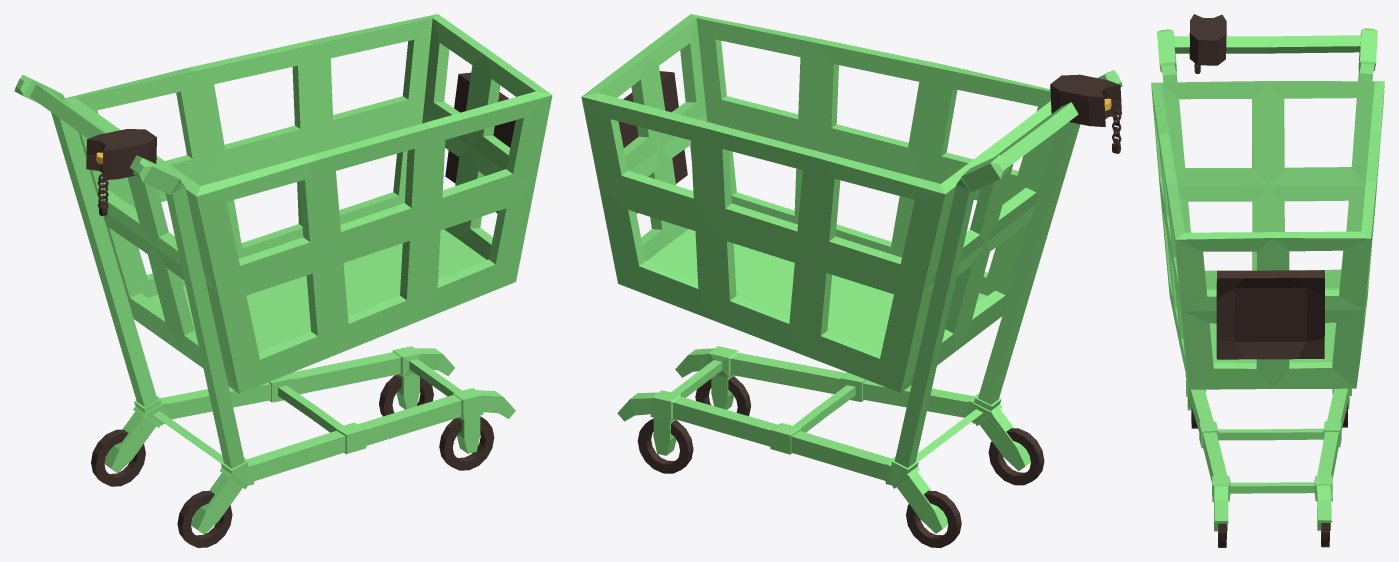
The model's file is cart_green.fbx.
3 renders of one model, left to right at view 1: azimuth 30°, elevation 25°; view 2: azimuth 150°, elevation 25°; view 3: azimuth 270°, elevation 25°, orthographic. The views are drawn at different scales.
Visible parts, largest first — view 1: Cart, chain_1; view 2: Cart, chain_1; view 3: Cart, chain_1.
Boxes of the visible parts, x1,y1,x2,y2 form: Cart: [14, 14, 552, 534]; chain_1: [86, 72, 515, 547]; Cart: [581, 14, 1122, 533]; chain_1: [618, 71, 1121, 547]; Cart: [1151, 28, 1384, 531]; chain_1: [1189, 14, 1347, 547].
Bounding box in the file's own units: 121 × 109 × 62.35.
1 material, 1 textured.
